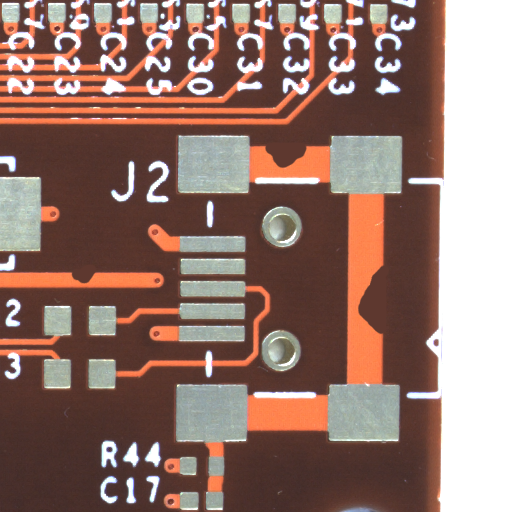Mouse_bite: (372, 299, 416, 379), (287, 153, 344, 184), (84, 275, 118, 296)
